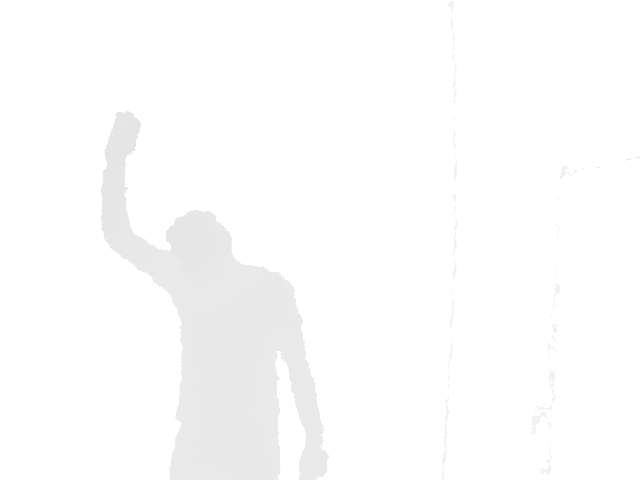hand: (103, 109, 142, 162)
head: (166, 209, 233, 274)
person: (100, 109, 329, 480)
